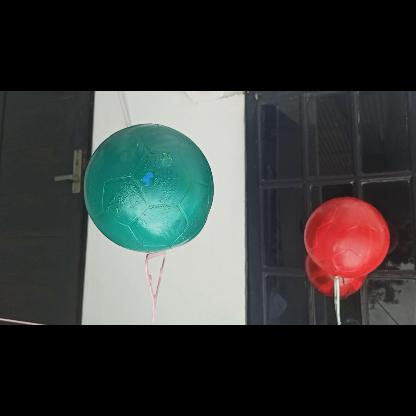red_ball: (306, 196, 388, 276)
